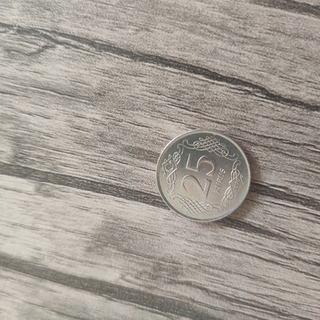25KURUS: (154, 128, 251, 223)
